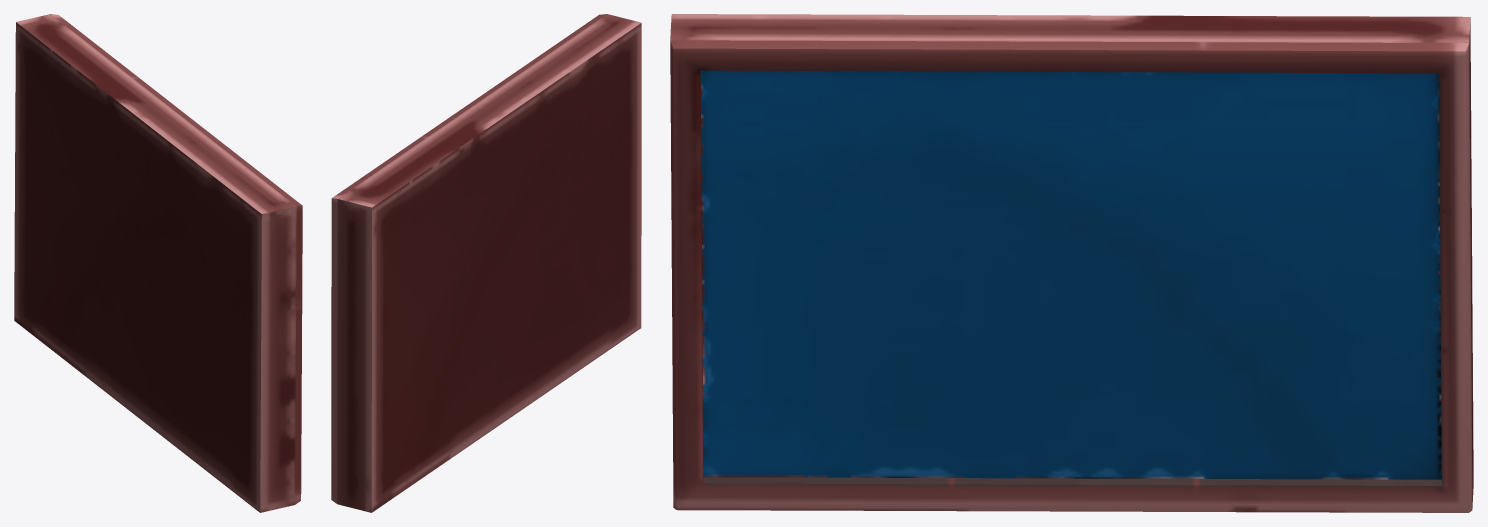
File: RE_PropPFrame.FBX
3 views of the same model, side by side, from view 1: azimuth 30°, elevation 25°; view 2: azimuth 150°, elevation 25°; view 3: azimuth 270°, elevation 25° (orthographic). The views are drawn at different scales.
Parts seen in each view (by area): view 1: RE_PropPFrame; view 2: RE_PropPFrame; view 3: RE_PropPFrame.
Part boxes in pixels (bbox=[...]): RE_PropPFrame: bbox=[14, 14, 302, 512]; RE_PropPFrame: bbox=[331, 14, 641, 512]; RE_PropPFrame: bbox=[670, 14, 1473, 512].
Size of the model in its own units: 3.07 by 17.04 by 26.26.
Materials: 2 (2 with a texture image).
